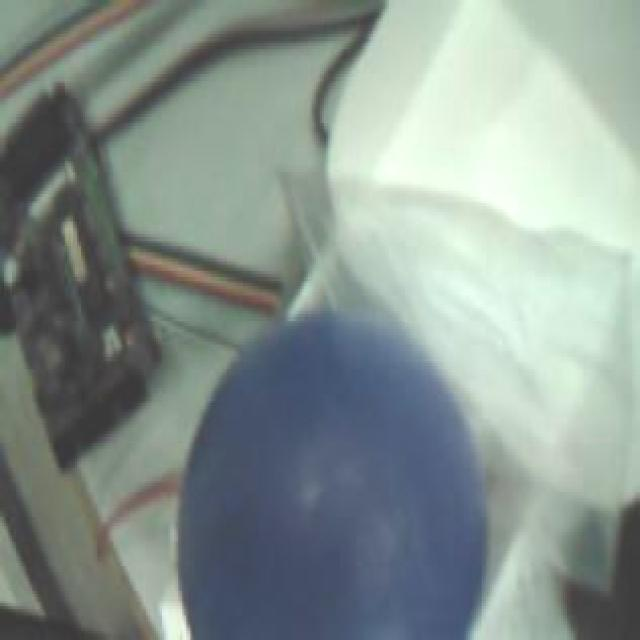BallPurple: (181, 313, 486, 640)
